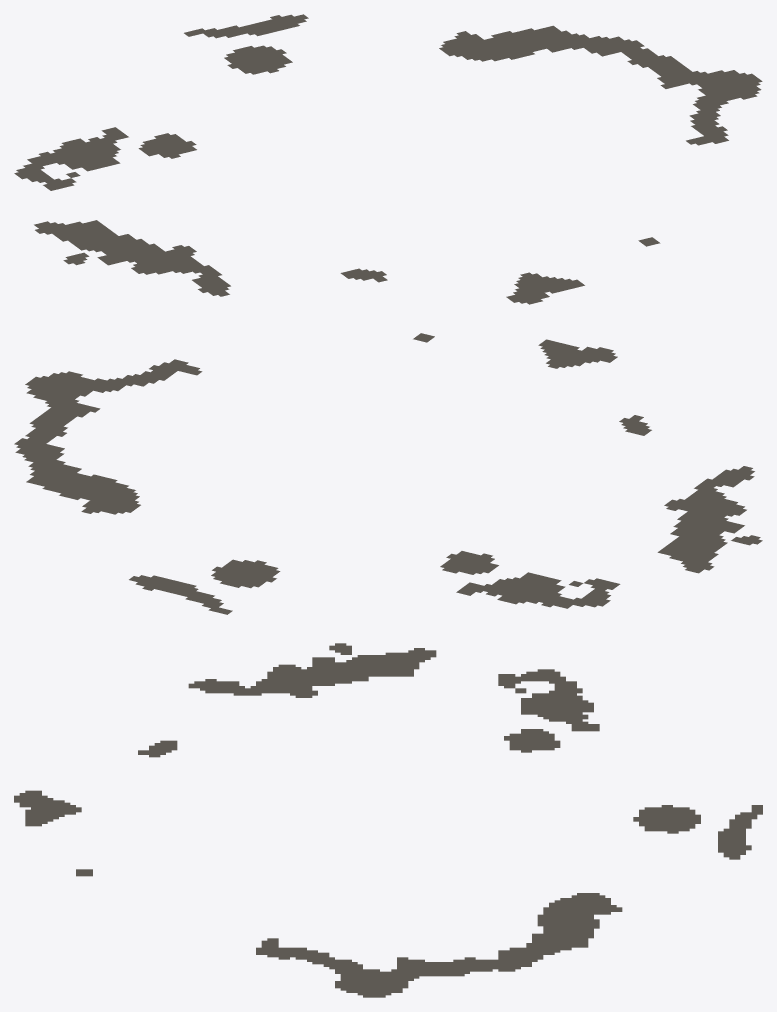
Rendered from Isl-start2-NoBuildArea.fbx.
3 renders of one model, top to bottom at view 1: azimuth 30°, elevation 25°; view 2: azimuth 150°, elevation 25°; view 3: azimuth 270°, elevation 25°, orthographic. The views are drawn at different scales.
Visible parts, largest first — view 1: Isl-start2-NoBuildArea; view 2: Isl-start2-NoBuildArea; view 3: Isl-start2-NoBuildArea.
Boxes of the visible parts, <box> form: Isl-start2-NoBuildArea: <box>14,14,762,304</box>; Isl-start2-NoBuildArea: <box>14,333,762,614</box>; Isl-start2-NoBuildArea: <box>14,643,762,997</box>.
Size of the model in its own units: 149 by 0 by 133.
